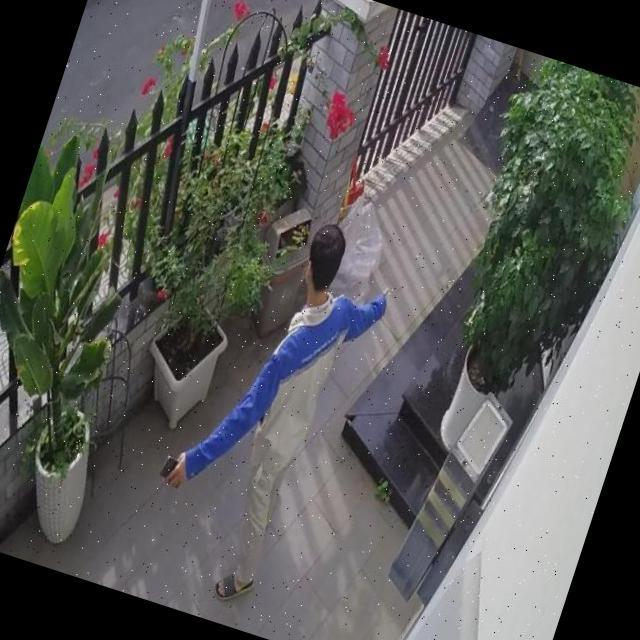person: (128, 197, 404, 619)
